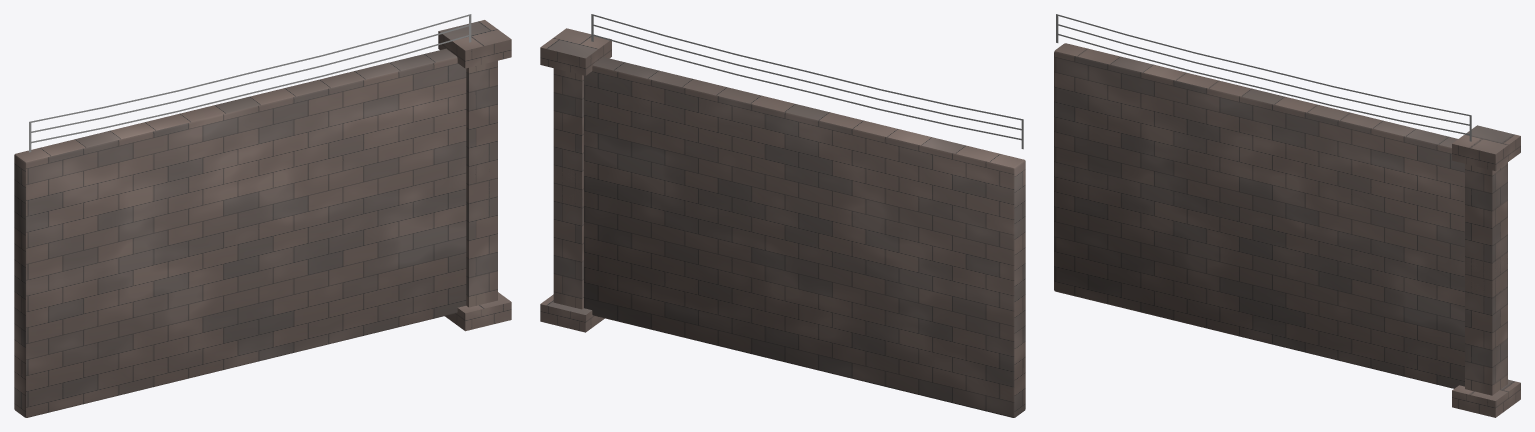
Rendered from wall-unit.glb.
3 renders of one model, left to right at view 1: azimuth 30°, elevation 25°; view 2: azimuth 150°, elevation 25°; view 3: azimuth 330°, elevation 25°, orthographic. The views are drawn at different scales.
Visible parts, largest first — view 1: cinderWall, Cube.007, Plane.020; view 2: cinderWall, Cube.007, Plane.020; view 3: cinderWall, Cube.007, Plane.020.
Boxes of the visible parts, x1,y1,x2,y2 form: cinderWall: (14,48,466,417); Cube.007: (438,20,511,331); Plane.020: (29,14,471,152); cinderWall: (584,57,1025,417); Cube.007: (540,28,611,332); Plane.020: (591,14,1023,149); cinderWall: (1054,43,1464,388); Cube.007: (1452,125,1520,417); Plane.020: (1056,14,1471,141).
Bounding box in the file's own units: 7.39 × 4.56 × 0.7181.
2 materials, 1 textured.
